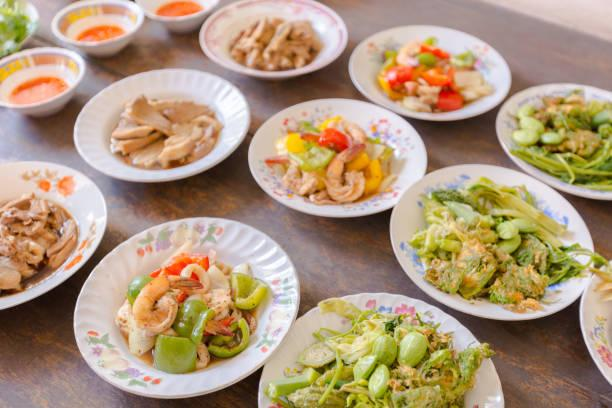Braised Crucian Carp: (72, 217, 295, 399), (387, 164, 594, 321), (255, 292, 499, 405), (246, 97, 423, 217), (73, 69, 247, 182), (347, 23, 512, 123), (1, 159, 107, 313), (495, 81, 610, 201), (198, 0, 344, 81)
